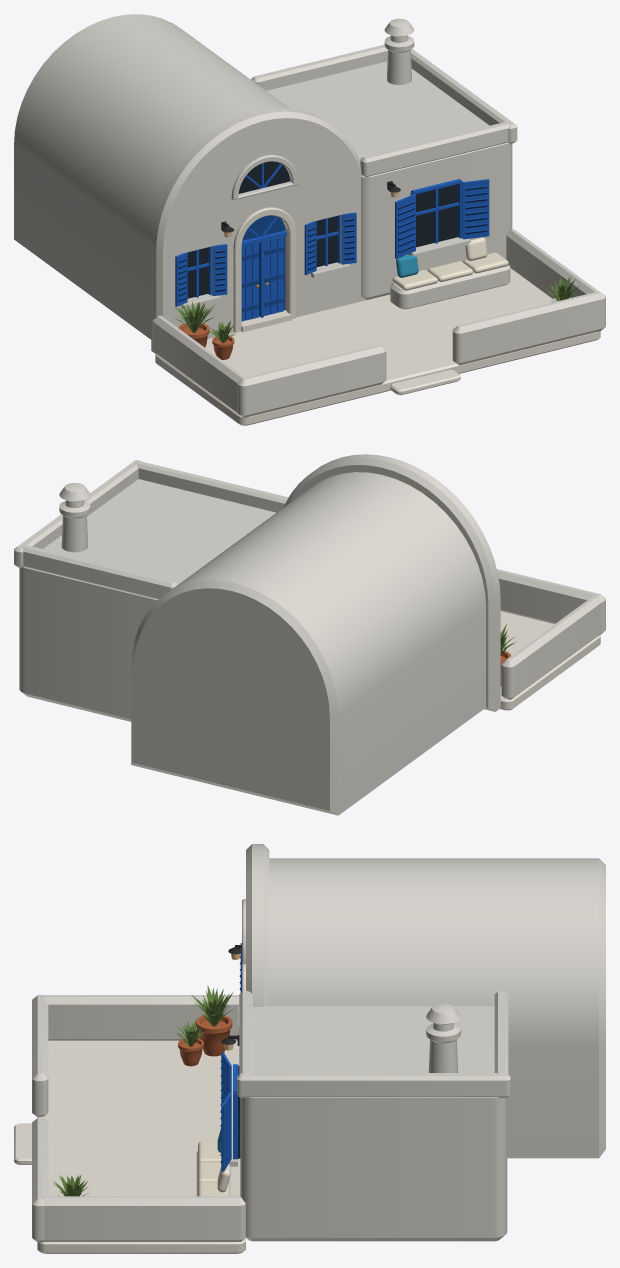
The model's file is cave-house.glb.
3 renders of one model, top to bottom at view 1: azimuth 30°, elevation 25°; view 2: azimuth 150°, elevation 25°; view 3: azimuth 270°, elevation 25°, orthographic. The views are drawn at different scales.
Visible parts, largest first — view 1: white0, white1, white85, shade118, white122, white121, white119, white86, white120, white124, shade2, white87 (+21 smaller); view 2: white0, white85, white1, white119, white121, white87, white86, shade118, white88, white117; view 3: white0, white85, shade118, white120, white119, white88, white1, white117, white121, white122, white87, white86 (+4 smaller).
Boxes of the visible parts, <box> form: white0: <box>14,14,289,339</box>; white1: <box>151,108,365,353</box>; white85: <box>266,61,512,300</box>; shade118: <box>155,268,600,425</box>; white122: <box>452,291,605,365</box>; white121: <box>237,345,386,417</box>; white119: <box>152,315,245,412</box>; white86: <box>360,121,510,177</box>; white120: <box>506,229,598,298</box>; white124: <box>390,265,510,309</box>; shade2: <box>233,207,296,332</box>; white87: <box>251,44,387,90</box>; white0: <box>131,472,485,815</box>; white85: <box>19,479,275,721</box>; white1: <box>283,454,500,711</box>; white119: <box>501,595,602,699</box>; white121: <box>497,569,605,635</box>; white87: <box>21,544,177,599</box>; white86: <box>135,461,288,512</box>; shade118: <box>500,611,600,710</box>; white88: <box>14,460,140,567</box>; white117: <box>59,483,90,552</box>; white0: <box>269,858,605,1158</box>; white85: <box>240,1006,507,1241</box>; shade118: <box>37,1040,245,1253</box>; white120: <box>42,1196,245,1241</box>; white119: <box>42,995,239,1040</box>; white88: <box>237,1073,510,1097</box>; white1: <box>246,844,269,1006</box>; white117: <box>426,1003,460,1072</box>; white121: <box>32,994,48,1117</box>; white122: <box>32,1117,48,1242</box>; white87: <box>494,991,508,1074</box>; white86: <box>239,991,252,1074</box>.
Size of the model in its own units: 8.5 by 4.85 by 10.2.
